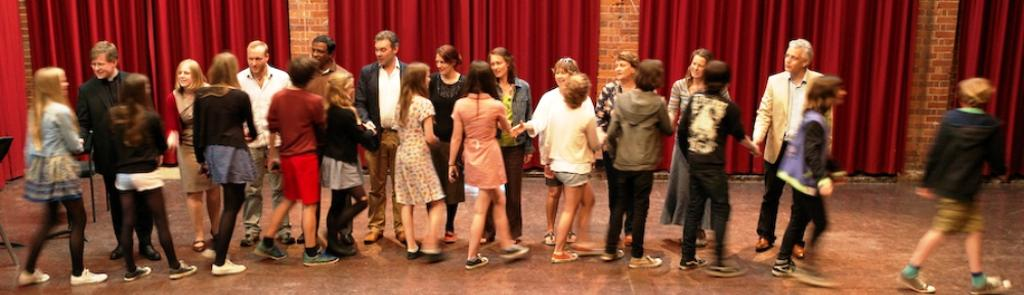face: (91, 56, 111, 78), (247, 47, 263, 72), (374, 40, 390, 65), (490, 54, 507, 77), (784, 48, 801, 71), (310, 41, 325, 62), (833, 81, 846, 104), (614, 60, 629, 79), (554, 68, 568, 87), (691, 56, 703, 77), (420, 68, 431, 90), (177, 67, 189, 87), (435, 54, 447, 74), (59, 75, 68, 96)
